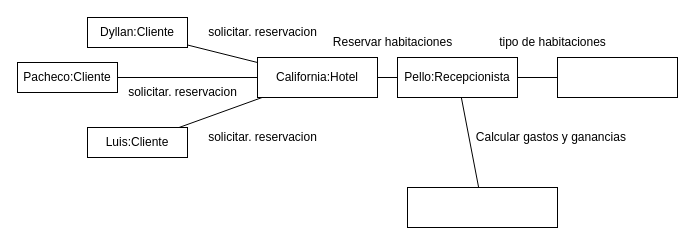
The diagram is 695 pixels wide and 245 high, and some of its shapes have lost their labels. Here are the shapes that lost their labels. From the top down, the centre of each, then its label:
the point at 617,77: Num():Habitaciones
the point at 482,207: Francisco:Administrador
